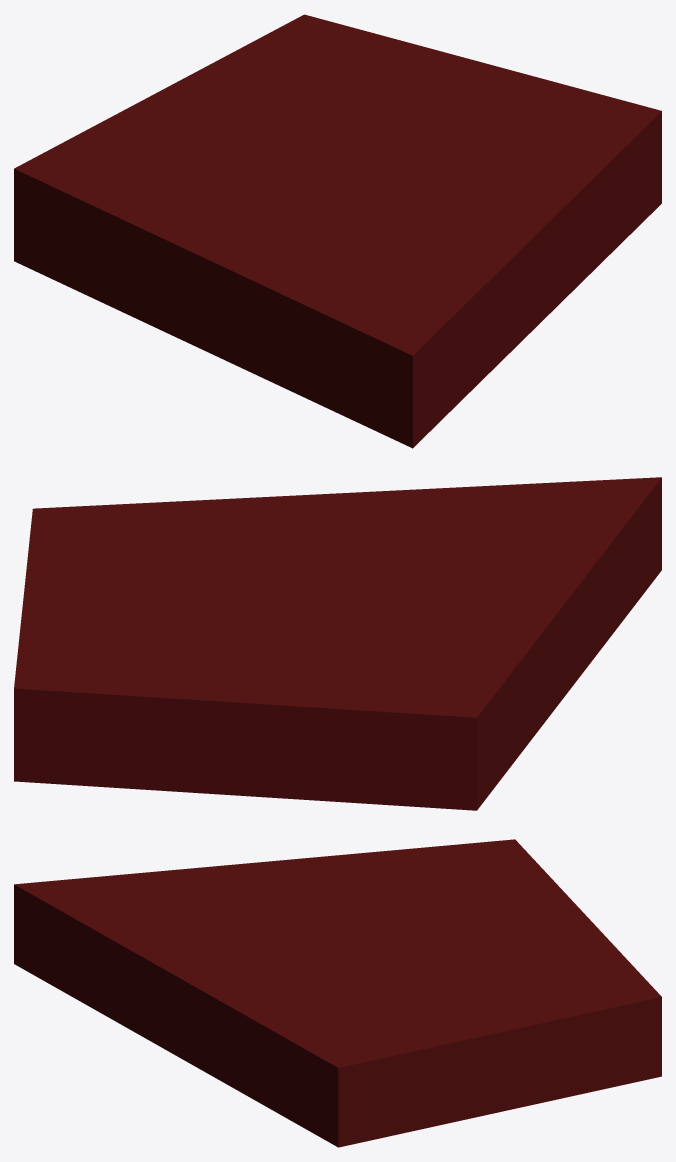
Rendered from Diamond_Landing_Right.fbx.
3 renders of one model, top to bottom at view 1: azimuth 30°, elevation 25°; view 2: azimuth 150°, elevation 25°; view 3: azimuth 270°, elevation 25°, orthographic. The views are drawn at different scales.
Visible parts, largest first — view 1: Diamond_Landing_Right; view 2: Diamond_Landing_Right; view 3: Diamond_Landing_Right.
Boxes of the visible parts, x1,y1,x2,y2 form: Diamond_Landing_Right: (14, 14, 661, 448); Diamond_Landing_Right: (14, 477, 661, 810); Diamond_Landing_Right: (14, 839, 661, 1147).
Size of the model in its own units: 616 by 100 by 738.
